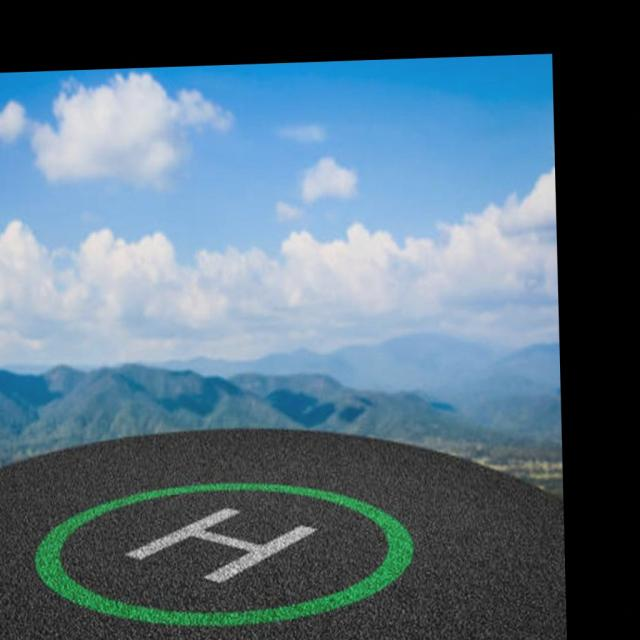helipad: (26, 478, 421, 634)
